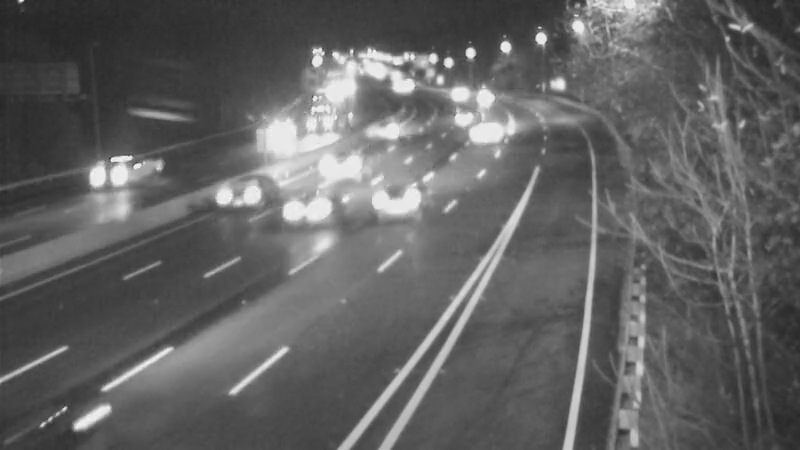vehicle: (3, 356, 113, 450), (308, 128, 388, 208), (366, 161, 446, 241), (281, 166, 361, 246), (209, 150, 289, 230), (64, 139, 144, 219), (424, 72, 474, 122), (461, 71, 511, 121), (436, 91, 486, 141), (371, 105, 421, 155), (468, 110, 518, 160), (253, 107, 303, 157), (296, 102, 346, 152)
